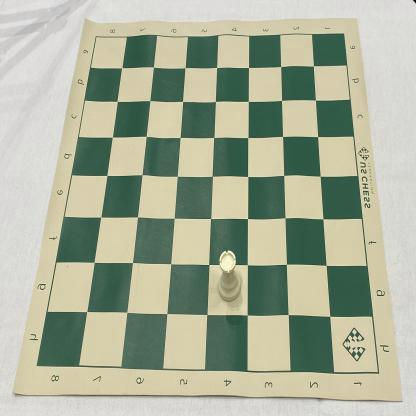white-rook: (217, 250, 242, 303)
